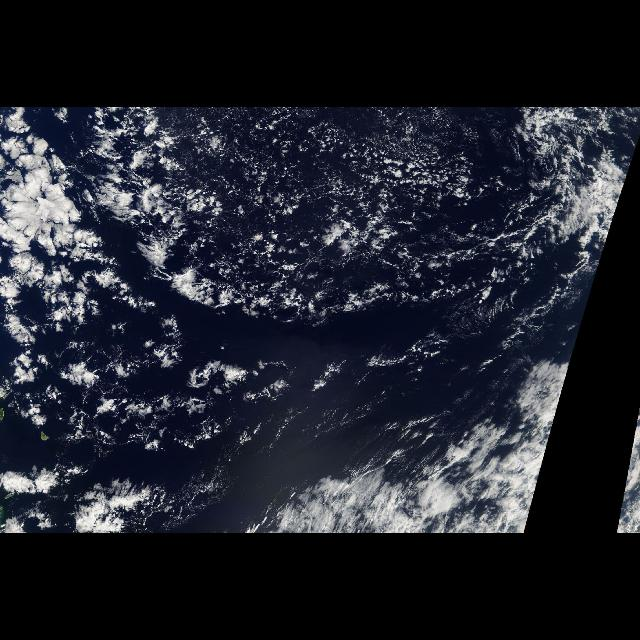Flower: (0, 115, 244, 532)
Gravel: (86, 108, 584, 314)
